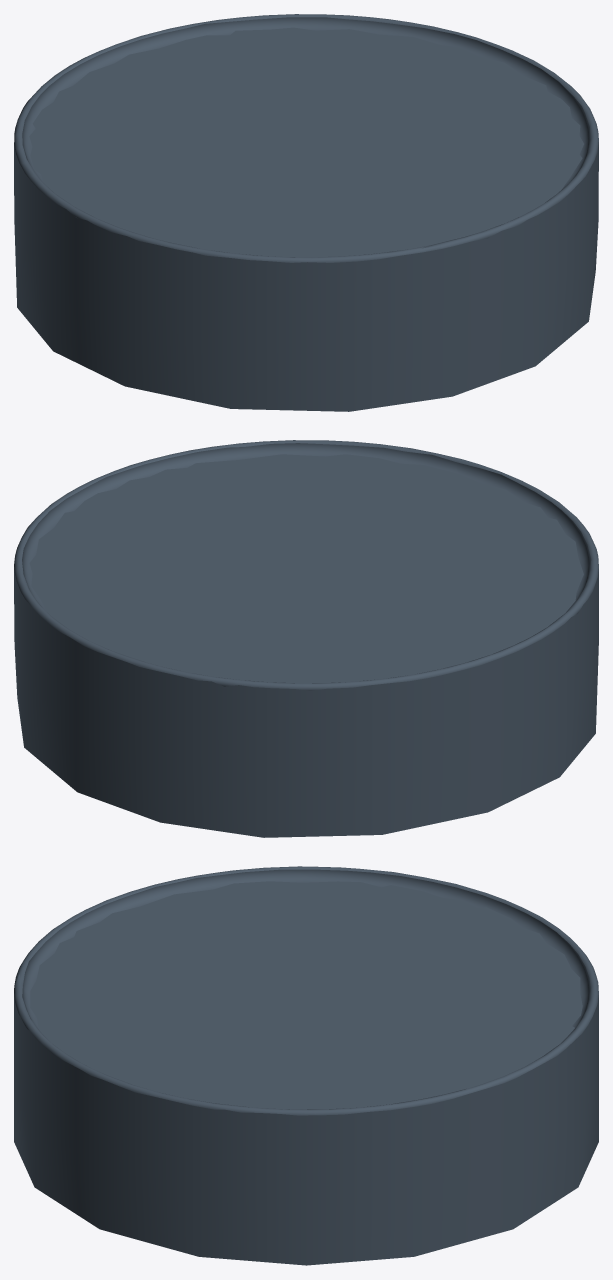
Rendered from fr_wheel_8.obj.
3 renders of one model, top to bottom at view 1: azimuth 30°, elevation 25°; view 2: azimuth 150°, elevation 25°; view 3: azimuth 270°, elevation 25°, orthographic.
Size of the model in its own units: 0.1197 by 0.0347 by 0.1197.
